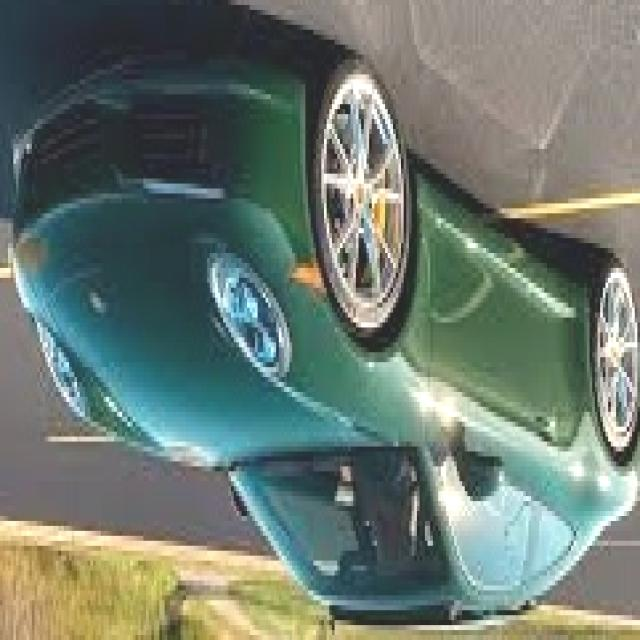green: (10, 55, 640, 621)
